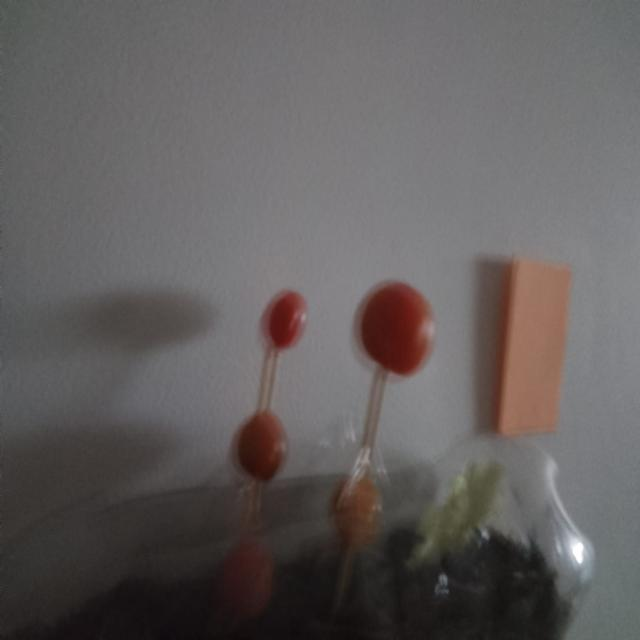card: (496, 258, 570, 436)
fruit_maturation: (332, 475, 381, 549)
fully_grown: (360, 282, 434, 375), (237, 410, 287, 482), (267, 291, 307, 349)
